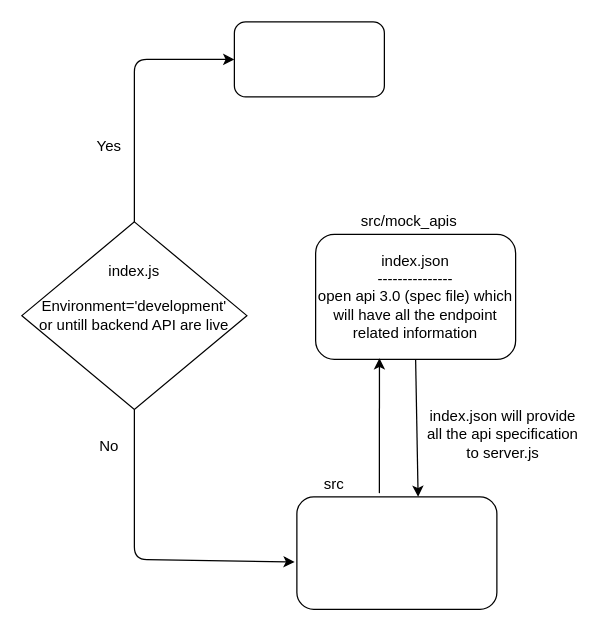
Image size: 606x631. Some labels were removed from this diagram. The box of each missing label's shape, as (x1, y1, x2, y2) in pixels:
Live api and server: (233, 21, 384, 97)
server.js: (296, 496, 497, 609)
